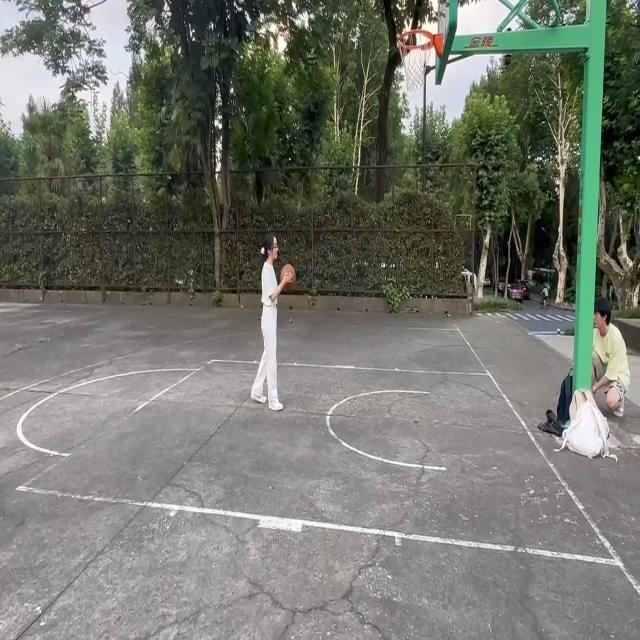basketball: (397, 30, 449, 94)
rim: (282, 266, 294, 285)
